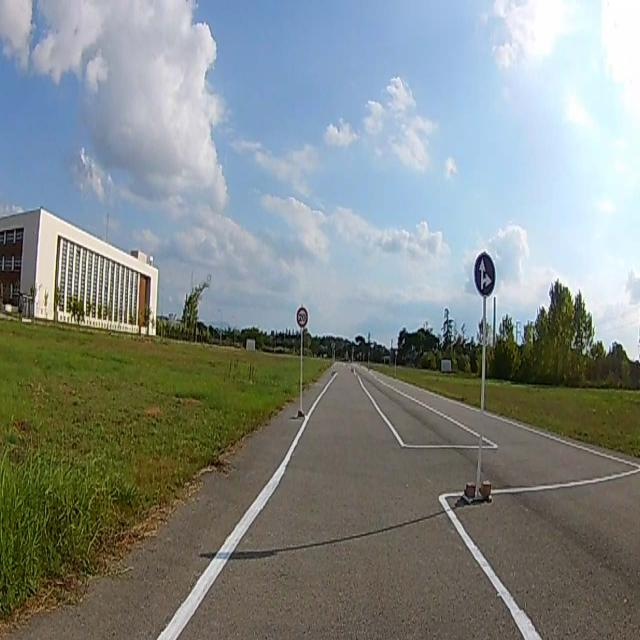20: (296, 307, 308, 328)
ilerisag: (474, 253, 496, 295)
